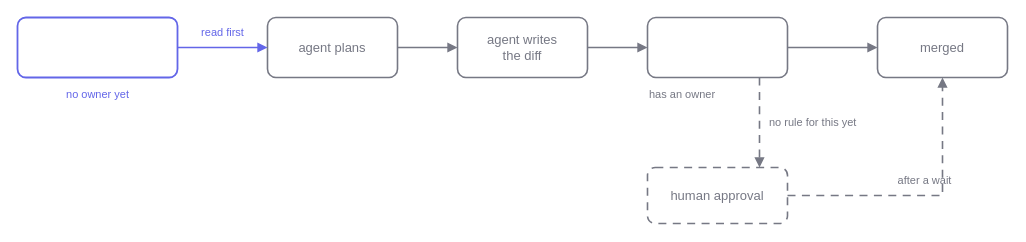
This 1026x242 diagram has some shape labels left out. The shapes that lost their labels are listed below. From the top down, each one's centre as x and y in pixels, then its label:
[97,47]: target architecture the agent can read
[717,47]: checks the written rules
